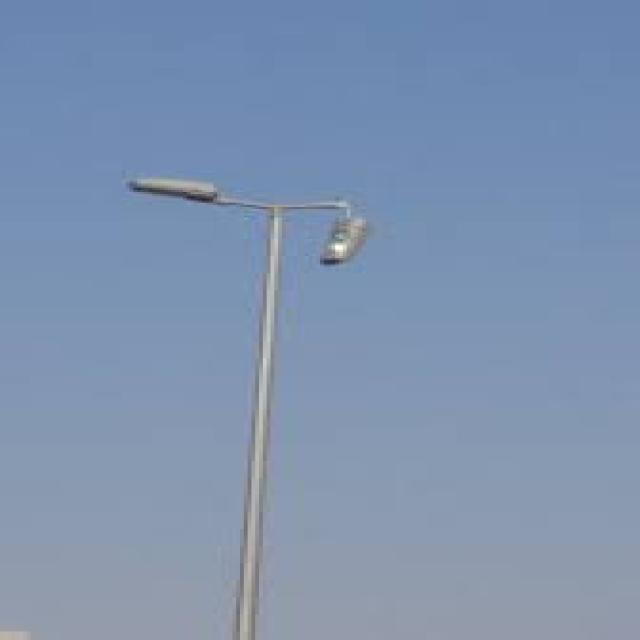Street Light: (122, 175, 373, 640)
